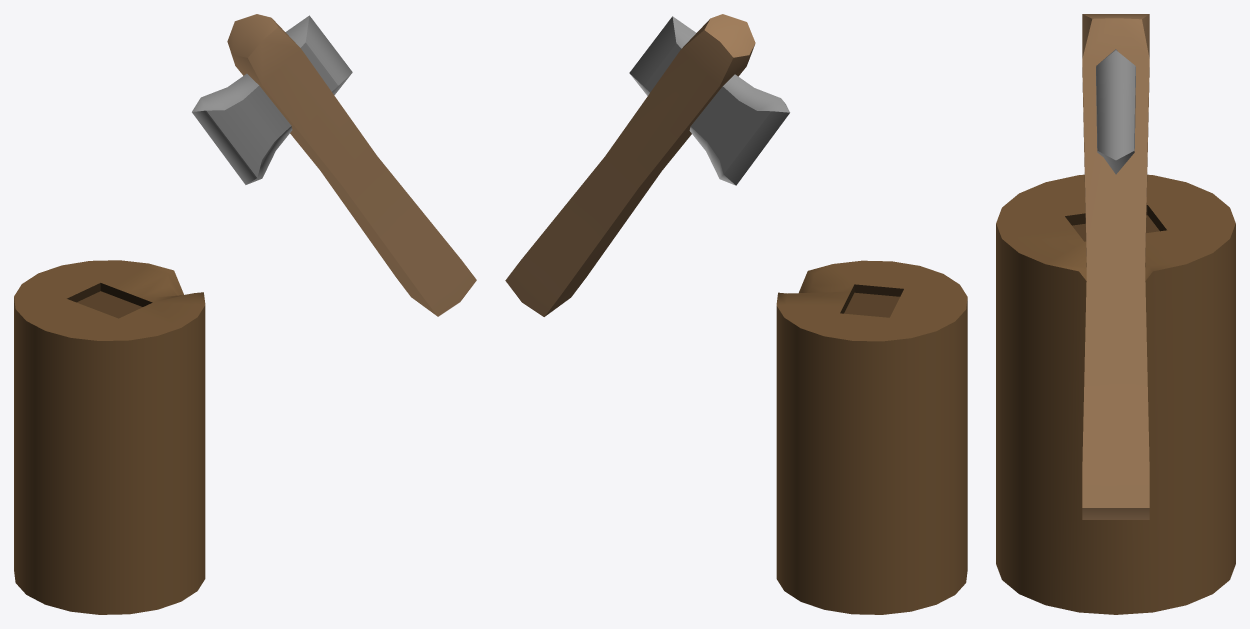
Rendered from UpGrade.fbx.
3 renders of one model, left to right at view 1: azimuth 30°, elevation 25°; view 2: azimuth 150°, elevation 25°; view 3: azimuth 270°, elevation 25°, orthographic. The views are drawn at different scales.
Visible parts, largest first — view 1: board, pCube2, pCube1; view 2: board, pCube2, pCube1; view 3: board, pCube2, pCube1.
Boxes of the visible parts, box(x1,y1,x2,y2) form: board: box(14, 260, 205, 614); pCube2: box(227, 14, 476, 316); pCube1: box(192, 15, 352, 184); board: box(776, 260, 967, 614); pCube2: box(505, 14, 755, 316); pCube1: box(629, 16, 789, 185); board: box(996, 174, 1235, 614); pCube2: box(1082, 14, 1149, 519); pCube1: box(1096, 49, 1135, 174).
Size of the model in its own units: 10.79 by 12.21 by 4.12.
